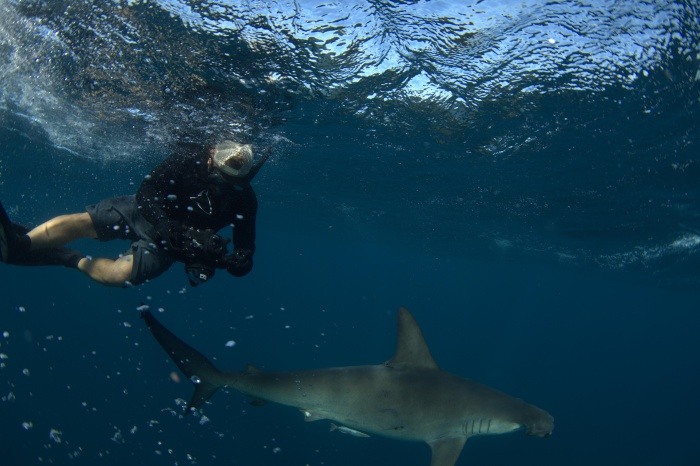Hammer: (117, 294, 582, 466), (241, 219, 545, 368)
